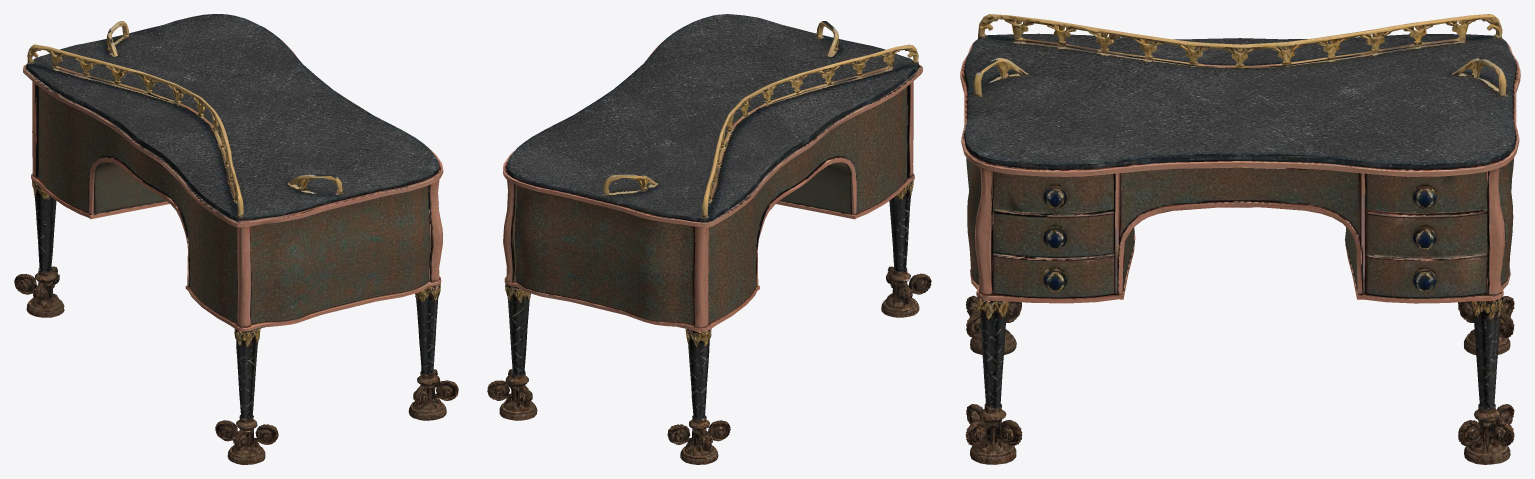
The model's file is HY-07_writing_desk_game.glb.
3 renders of one model, left to right at view 1: azimuth 30°, elevation 25°; view 2: azimuth 150°, elevation 25°; view 3: azimuth 270°, elevation 25°, orthographic. The views are drawn at different scales.
Visible parts, largest first — view 1: HY-07_writing_desk; view 2: HY-07_writing_desk; view 3: HY-07_writing_desk.
Part boxes in pixels (x1,y1,x2,y2): HY-07_writing_desk: (14, 14, 458, 464); HY-07_writing_desk: (487, 14, 931, 464); HY-07_writing_desk: (960, 14, 1520, 464).
Bounding box in the file's own units: 0.6615 × 0.7599 × 1.15.
1 material, 1 textured.
